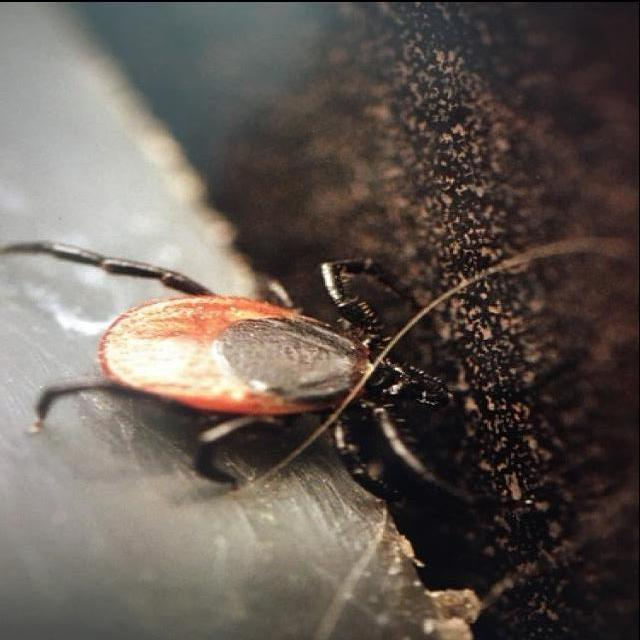Ixodes Ricinus-F: (0, 244, 459, 500)
